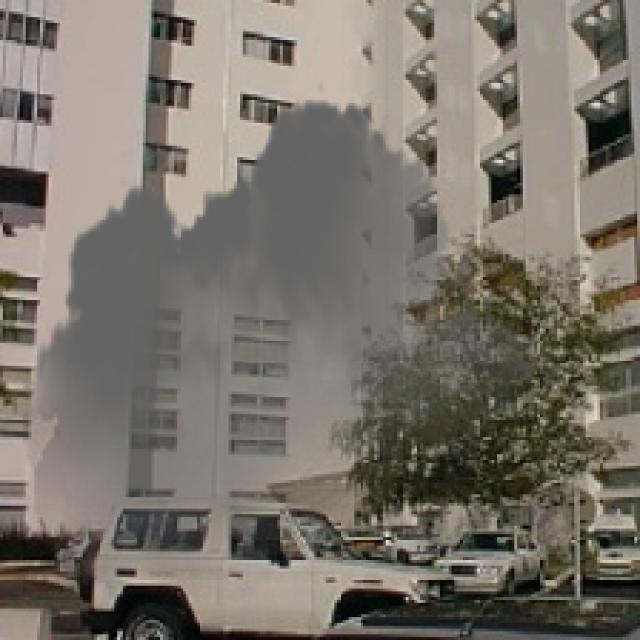smoke: (23, 80, 548, 623)
